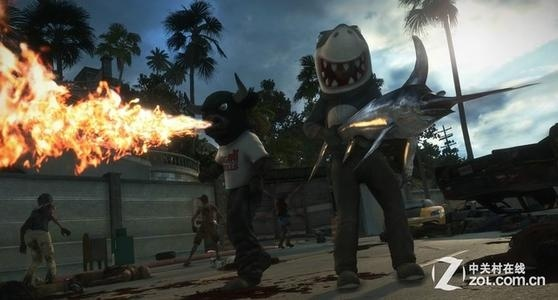fire: (0, 14, 209, 175)
